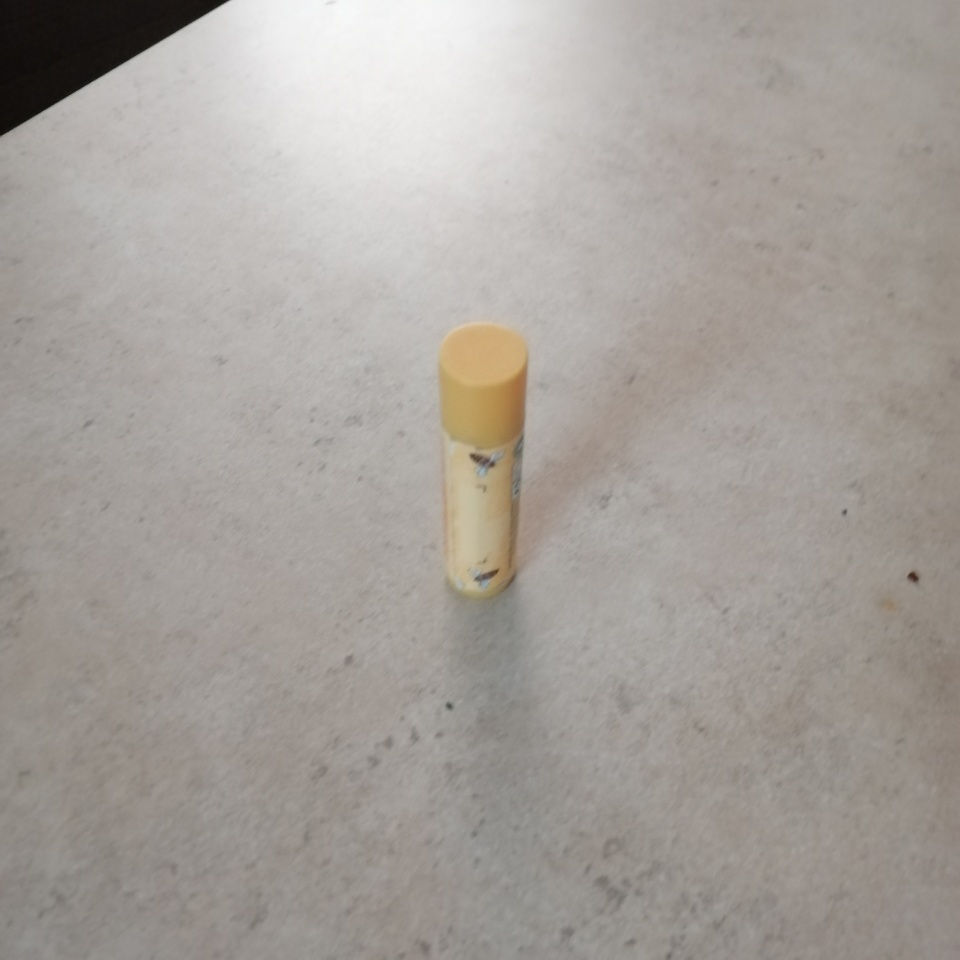chapstick: (439, 323, 529, 600)
